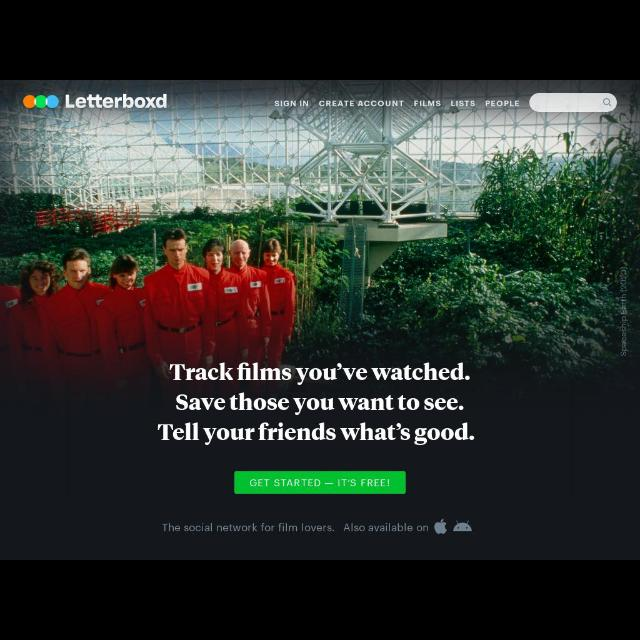backgroundimage: (1, 80, 640, 560)
icon: (454, 520, 472, 532), (434, 520, 448, 534), (603, 99, 611, 107)
image: (22, 95, 58, 108)
input: (530, 94, 616, 112)
text: (158, 422, 474, 446), (176, 392, 464, 416), (170, 363, 470, 385), (162, 524, 428, 532), (66, 94, 166, 108), (251, 479, 389, 486), (620, 266, 628, 356), (320, 101, 404, 107), (485, 101, 519, 107), (276, 101, 308, 107), (415, 101, 441, 107), (451, 101, 475, 107)
textbutton: (234, 472, 406, 494)
